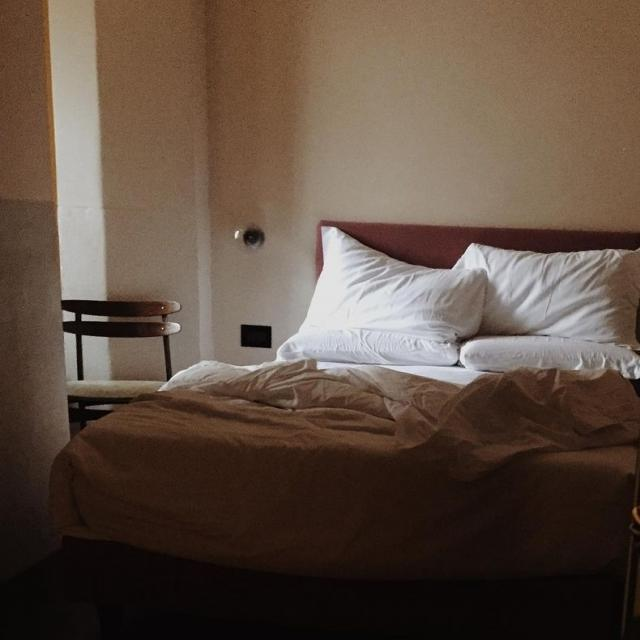bed: (52, 208, 640, 640)
